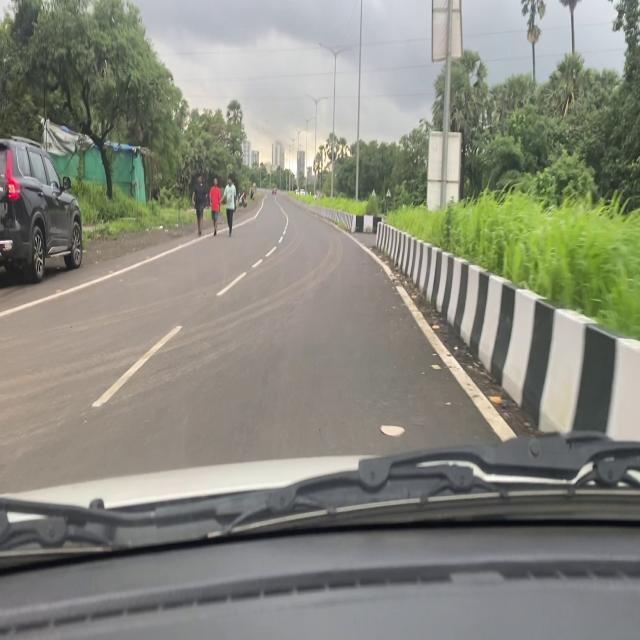lane: (329, 212, 518, 440), (1, 204, 270, 321), (114, 225, 289, 390)
